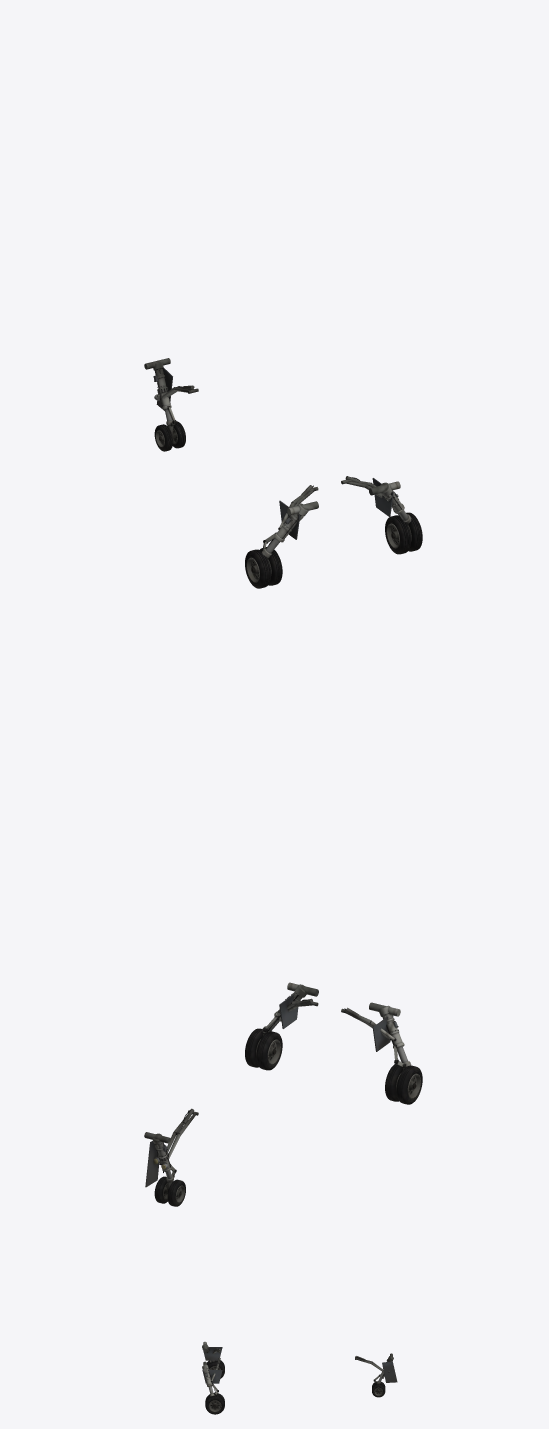
Rendered from e_mirage_f1_gear.glb.
3 renders of one model, top to bottom at view 1: azimuth 30°, elevation 25°; view 2: azimuth 150°, elevation 25°; view 3: azimuth 270°, elevation 25°, orthographic. The views are drawn at different scales.
Visible parts, largest first — view 1: body|F1_paint; view 2: body|F1_paint; view 3: body|F1_paint.
Boxes of the visible parts, left/top/right/bottom form: body|F1_paint: left=144, top=358, right=422, bottom=588; body|F1_paint: left=144, top=982, right=422, bottom=1206; body|F1_paint: left=202, top=1341, right=397, bottom=1414.
Size of the model in its own units: 2.79 by 5.24 by 15.46.
1 material, 1 textured.
